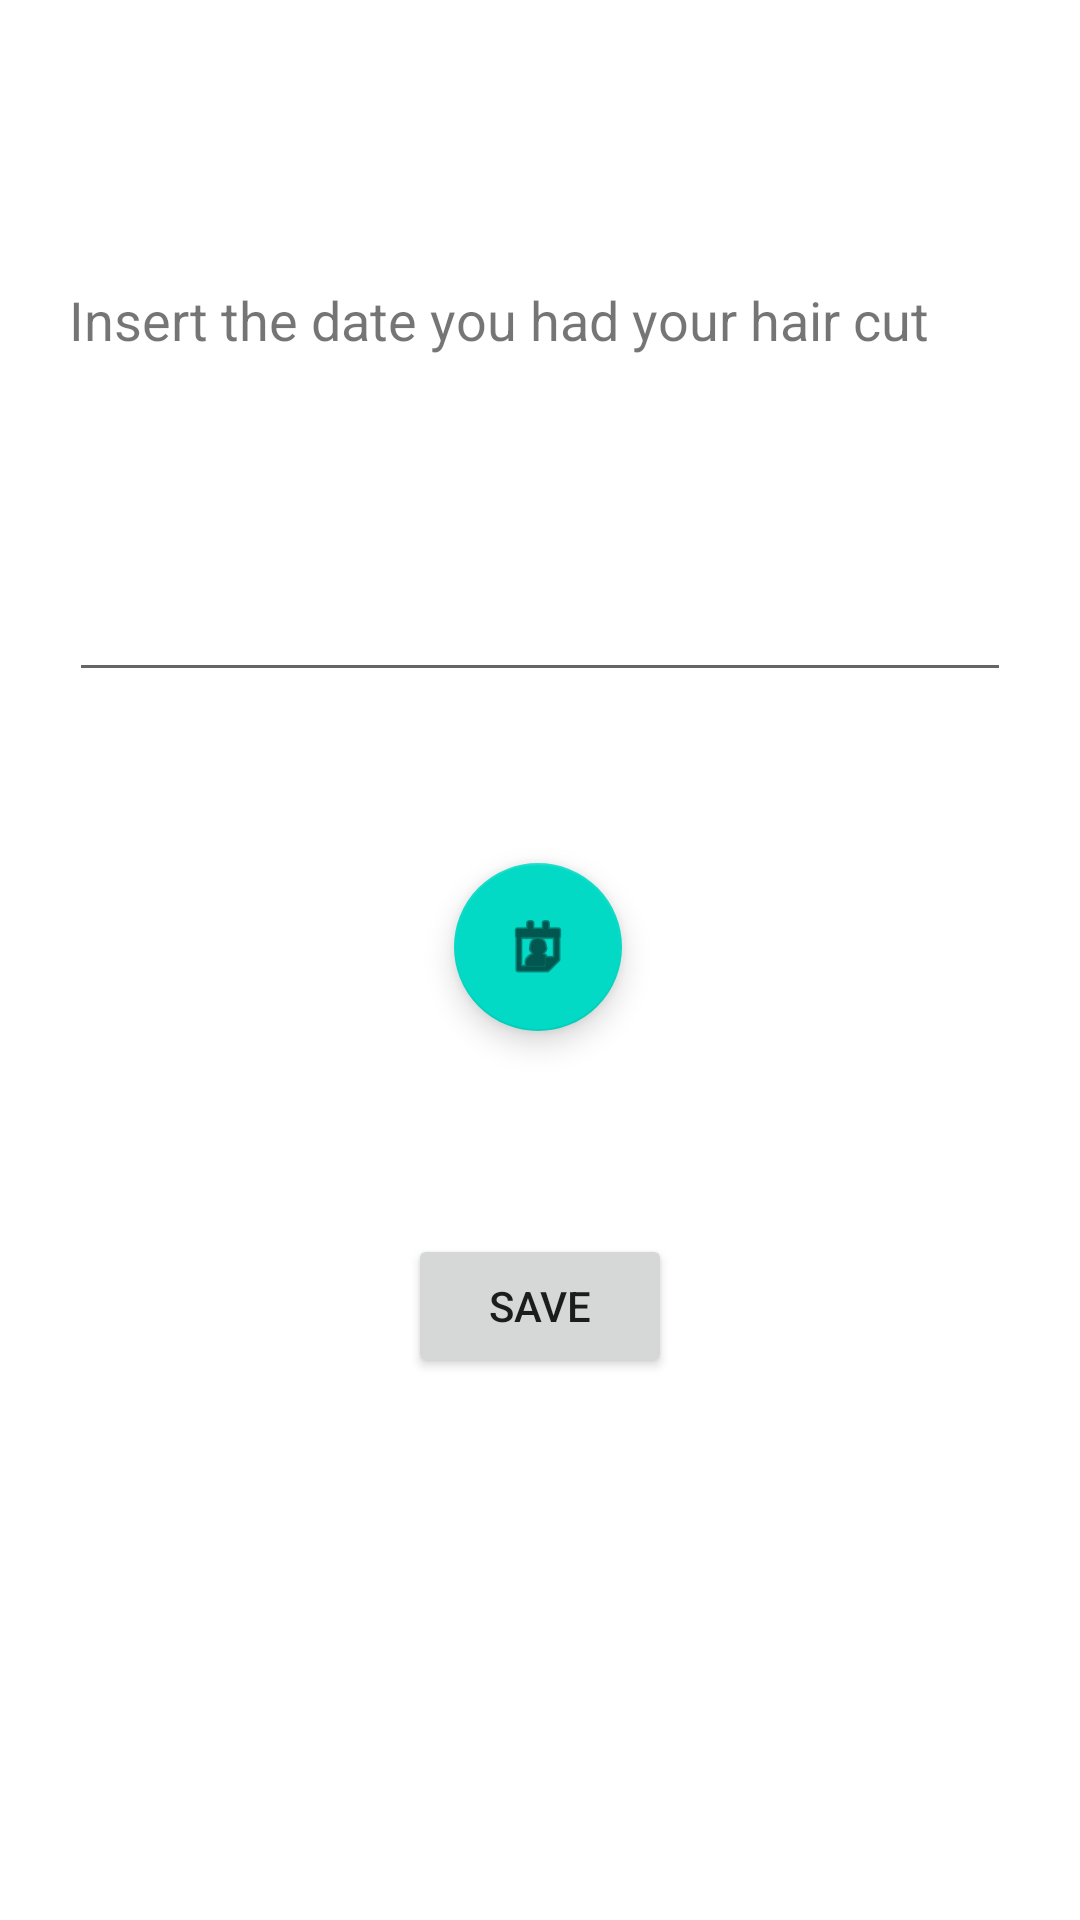

Named icons in this screenshot (1080*1920) and their centers, point (x, y):
calendar: point (538, 947)
